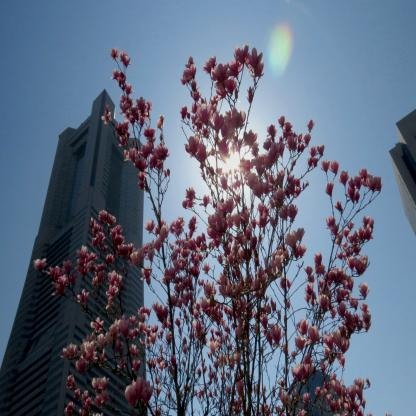Mokuren: (33, 45, 382, 416)
